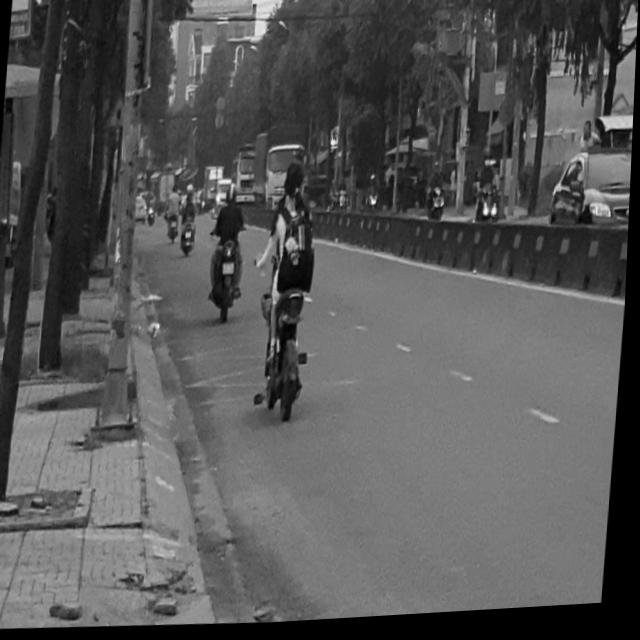licenseplate: (250, 151, 328, 427)
motorcyclist: (282, 161, 308, 207)
